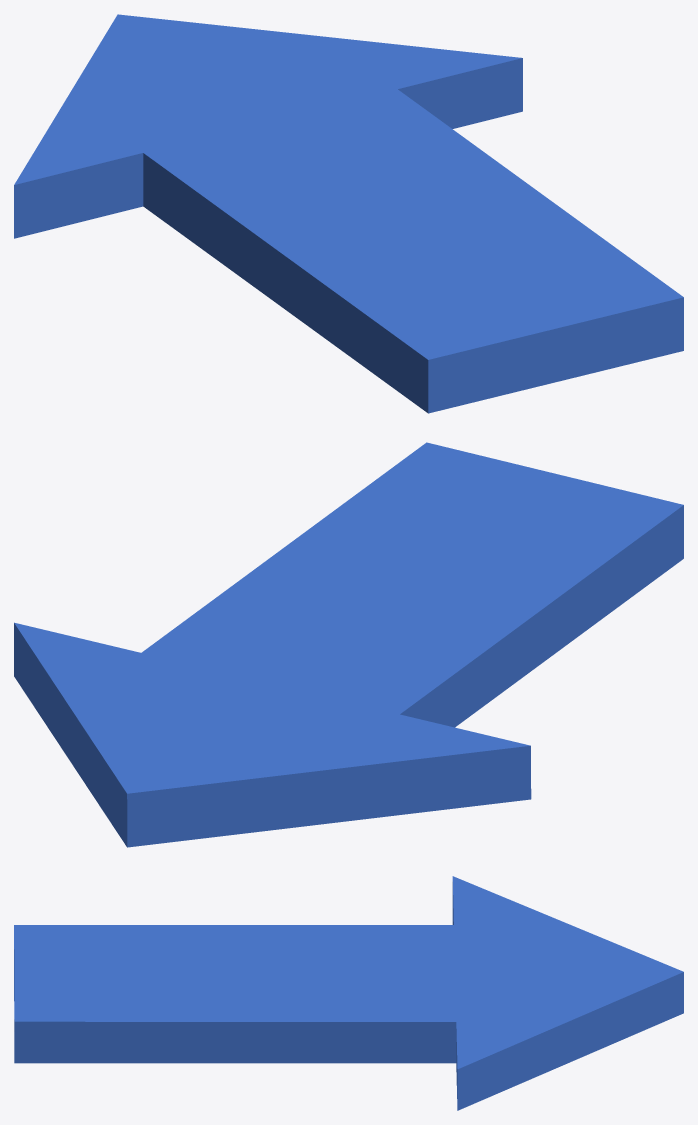
File: arrow1.fbx
The picture shows the model from 3 angles, top to bottom: view 1: azimuth 30°, elevation 25°; view 2: azimuth 150°, elevation 25°; view 3: azimuth 270°, elevation 25°; orthographic projection. The views are drawn at different scales.
Visible parts, largest first — view 1: Box, Box1; view 2: Box, Box1; view 3: Box, Box1.
Part boxes in pixels (x1,y1,x2,y2): Box: [143, 82, 683, 413]; Box1: [14, 14, 522, 238]; Box: [131, 442, 683, 727]; Box1: [14, 622, 531, 847]; Box: [14, 925, 472, 1063]; Box1: [452, 876, 683, 1110].
Size of the model in its own units: 0.9999 by 0.1016 by 1.46.
